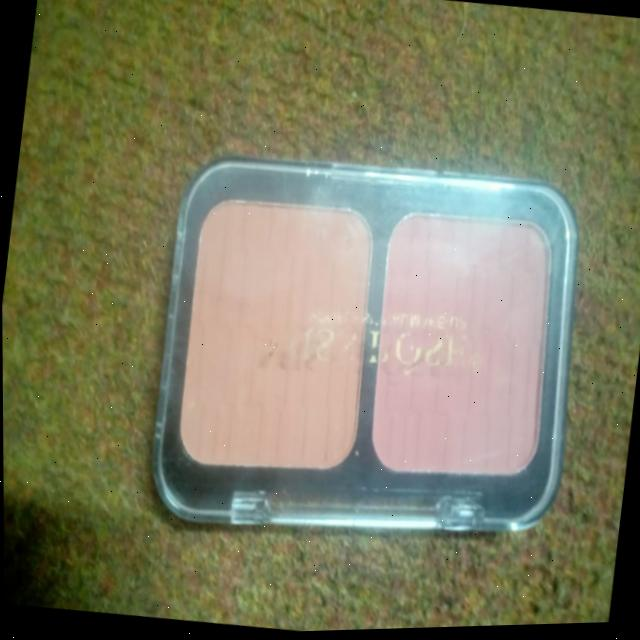blush: (355, 180, 579, 511)
powder: (166, 180, 386, 505)
